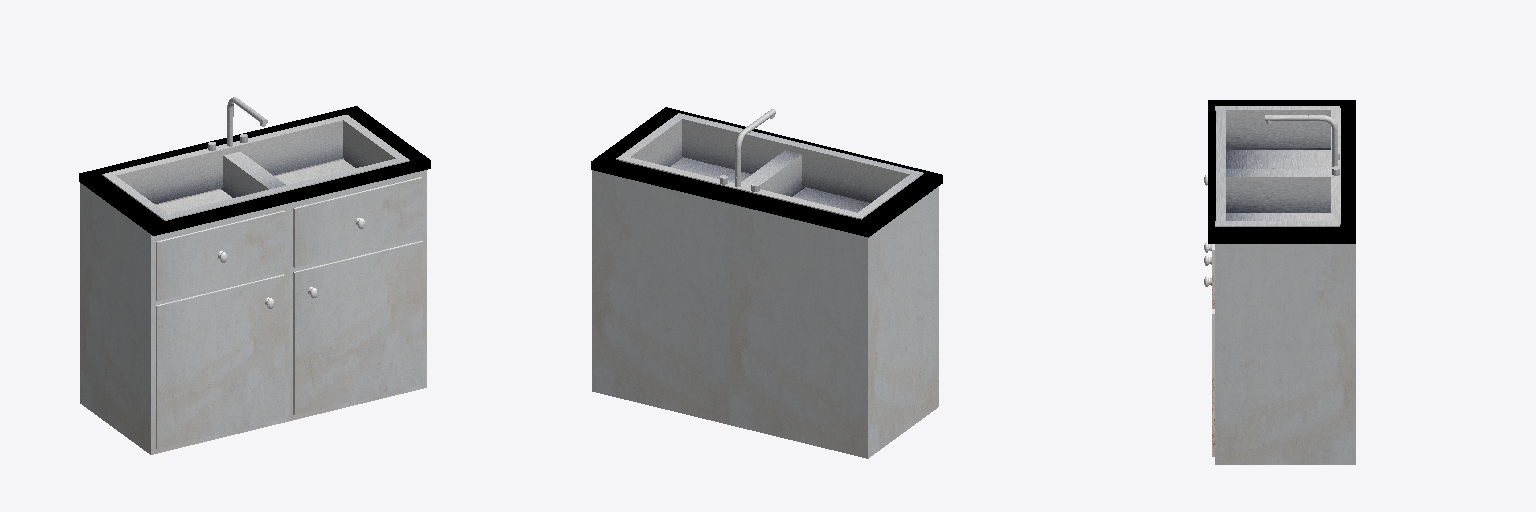
The picture shows the model from 3 angles: view 1: azimuth 30°, elevation 25°; view 2: azimuth 150°, elevation 25°; view 3: azimuth 270°, elevation 25°; orthographic projection.
Parts seen in each view (by area): view 1: polySurface33, pCube18, pCube17, pCube21, pCube19, pCube20, llave:AI49_014_89; view 2: polySurface33, pCube19, pCube21, pCube17, pCube18, pCube20, llave:AI49_014_89; view 3: polySurface33, pCube17, pCube20, pCube19, pCube18, pCube21, llave:AI49_014_89.
Part boxes in pixels (bbox=[...]): polySurface33: bbox=[79, 106, 430, 454]; pCube18: bbox=[107, 115, 347, 203]; pCube17: bbox=[221, 152, 285, 197]; pCube21: bbox=[343, 115, 409, 167]; pCube19: bbox=[164, 158, 404, 218]; pCube20: bbox=[102, 173, 172, 220]; llave:AI49_014_89: bbox=[227, 97, 267, 146]; polySurface33: bbox=[591, 107, 942, 458]; pCube19: bbox=[682, 114, 918, 202]; pCube21: bbox=[616, 113, 686, 166]; pCube17: bbox=[741, 150, 804, 196]; pCube18: bbox=[620, 156, 860, 218]; pCube20: bbox=[857, 171, 923, 219]; llave:AI49_014_89: bbox=[735, 109, 775, 186]; polySurface33: bbox=[1204, 100, 1355, 464]; pCube17: bbox=[1226, 169, 1330, 212]; pCube20: bbox=[1215, 106, 1339, 147]; pCube19: bbox=[1216, 108, 1225, 223]; pCube18: bbox=[1331, 108, 1340, 224]; pCube21: bbox=[1215, 221, 1339, 226]; llave:AI49_014_89: bbox=[1265, 115, 1337, 166].
Size of the model in its own units: 1.47 by 1.44 by 0.6977.
Materials: 4 (3 with a texture image).